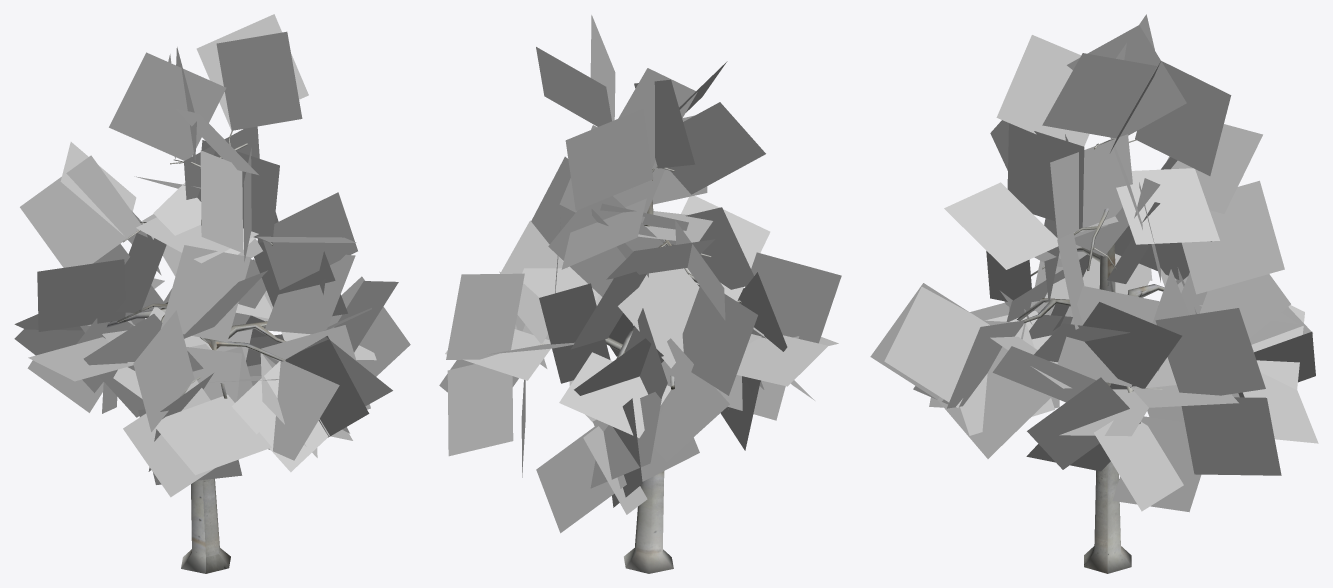
Rendered from birchTree1Branches.fbx.
3 renders of one model, left to right at view 1: azimuth 30°, elevation 25°; view 2: azimuth 150°, elevation 25°; view 3: azimuth 270°, elevation 25°, orthographic. The views are drawn at different scales.
Parts seen in each view (by area): view 1: Plane.058, Plane.069, Plane.063, Plane.032, Plane.041, Plane.017, Cube, Plane.008, Cube|Plane.012|Dupli|20, Plane.005, Plane.066, Plane.010 (+38 smaller); view 2: Cube|Plane.012|Dupli|69, Cube|Plane.012|Dupli|51, Cube|Plane.012|Dupli|31, Cube|Plane.012|Dupli|50, Cube|Plane.012|Dupli|8, Cube|Plane.012|Dupli|65, Cube|Plane.012|Dupli|25, Cube|Plane.012|Dupli|4, Cube|Plane.012|Dupli|30, Cube, Plane.034, Plane.024 (+34 smaller); view 3: Plane.060, Cube|Plane.012|Dupli|15, Plane.052, Cube|Plane.012|Dupli|62, Cube|Plane.012|Dupli|61, Cube|Plane.012|Dupli|39, Plane.070, Cube|Plane.012|Dupli|50, Cube|Plane.012|Dupli|38, Cube, Plane.037, Cube|Plane.012|Dupli|64 (+39 smaller).
Boxes of the visible parts, x1,y1,x2,y2 form: Plane.058: (20,155,141,267); Plane.069: (109,52,226,160); Plane.063: (216,31,302,130); Plane.032: (37,259,125,331); Plane.041: (263,192,357,289); Plane.017: (161,245,250,342); Cube: (106,130,285,573); Plane.008: (133,310,194,431); Cube|Plane.012|Dupli|20: (268,361,339,460); Plane.005: (155,399,250,475); Plane.066: (200,150,243,252); Plane.010: (83,314,203,417); Cube|Plane.012|Dupli|69: (565,108,653,210); Cube|Plane.012|Dupli|51: (446,273,524,359); Cube|Plane.012|Dupli|31: (682,286,757,395); Cube|Plane.012|Dupli|50: (448,366,513,456); Cube|Plane.012|Dupli|8: (744,252,841,343); Cube|Plane.012|Dupli|65: (668,102,765,194); Cube|Plane.012|Dupli|25: (653,338,729,460); Cube|Plane.012|Dupli|4: (618,268,699,367); Cube|Plane.012|Dupli|30: (536,427,625,533); Cube: (539,166,741,573); Plane.034: (559,352,671,438); Plane.024: (539,285,598,383); Plane.060: (1182,180,1284,294); Cube|Plane.012|Dupli|15: (884,287,989,402); Plane.052: (1155,308,1265,395); Cube|Plane.012|Dupli|62: (1042,53,1156,138); Cube|Plane.012|Dupli|61: (1116,168,1219,244); Cube|Plane.012|Dupli|39: (1050,134,1132,239); Plane.070: (1135,61,1231,175); Cube|Plane.012|Dupli|50: (1181,397,1280,475); Cube|Plane.012|Dupli|38: (944,182,1058,269); Cube: (1017,138,1164,573); Plane.037: (1007,123,1084,228); Cube|Plane.012|Dupli|64: (996,35,1075,139).
Bounding box in the file's own units: 2025 × 2878 × 2152.
